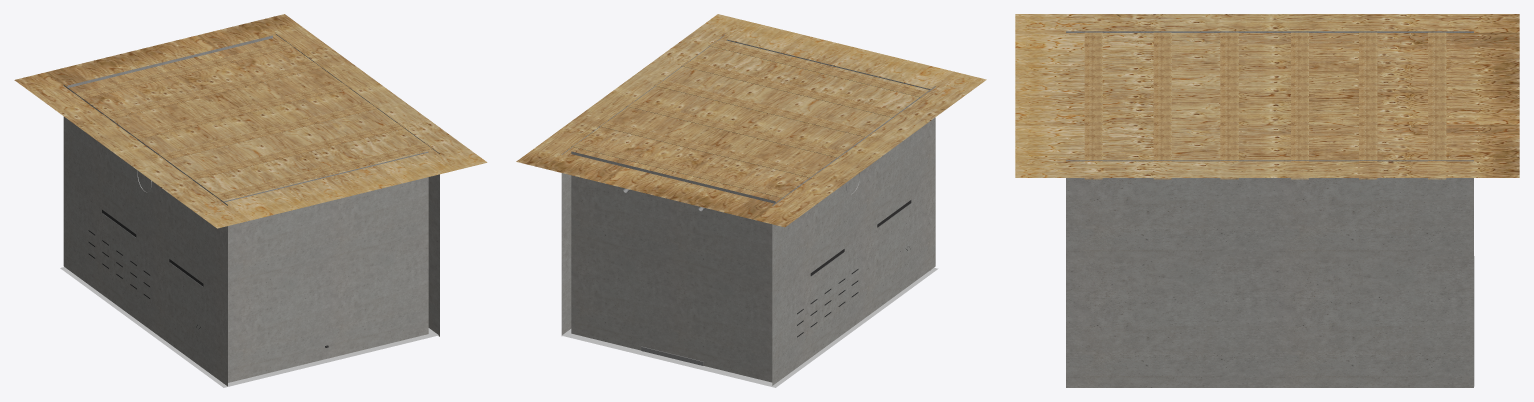
Rendered from purchase_room.fbx.
The picture shows the model from 3 angles, left to right: view 1: azimuth 30°, elevation 25°; view 2: azimuth 150°, elevation 25°; view 3: azimuth 270°, elevation 25°; orthographic projection. The views are drawn at different scales.
Visible parts, largest first — view 1: ceiling, pPlane9, shoe_wall, clothing_wall, floor, support_beam7, support_beam5, support_beam6, support_beam8, support_beam9, support_beam10, avatar_wall; view 2: ceiling, avatar_wall, shoe_wall, clothing_wall, floor, support_beam6, support_beam7, support_beam8, support_beam9, support_beam10, support_beam5; view 3: clothing_wall, ceiling, support_beam8, support_beam5, support_beam6, support_beam9, support_beam10, support_beam7, shoe_wall.
Boxes of the visible parts, box(x1,y1,x2,y2) form: ceiling: box(14, 14, 487, 228); pPlane9: box(223, 151, 428, 383); shoe_wall: box(63, 85, 227, 386); clothing_wall: box(276, 34, 439, 336); floor: box(60, 267, 438, 387); support_beam7: box(129, 82, 350, 139); support_beam5: box(73, 41, 295, 99); support_beam6: box(101, 62, 323, 119); support_beam8: box(157, 103, 379, 160); support_beam9: box(184, 122, 405, 180); support_beam10: box(212, 143, 433, 200); avatar_wall: box(67, 35, 272, 87); ceiling: box(516, 14, 986, 227); avatar_wall: box(571, 151, 775, 382); shoe_wall: box(772, 86, 935, 385); clothing_wall: box(561, 35, 724, 335); floor: box(562, 267, 938, 387); support_beam6: box(599, 121, 818, 178); support_beam7: box(626, 100, 846, 158); support_beam8: box(654, 80, 874, 137); support_beam9: box(681, 60, 901, 117); support_beam10: box(708, 40, 929, 97); support_beam5: box(571, 141, 791, 198); clothing_wall: box(1066, 160, 1473, 387); ceiling: box(1015, 14, 1519, 177); support_beam8: box(1220, 32, 1238, 179); support_beam5: box(1428, 32, 1446, 179); support_beam6: box(1359, 32, 1377, 179); support_beam9: box(1153, 32, 1171, 179); support_beam10: box(1084, 32, 1102, 179); support_beam7: box(1291, 32, 1308, 179); shoe_wall: box(1066, 31, 1473, 32).
Size of the model in its own units: 11.29 by 7.51 by 14.68.
